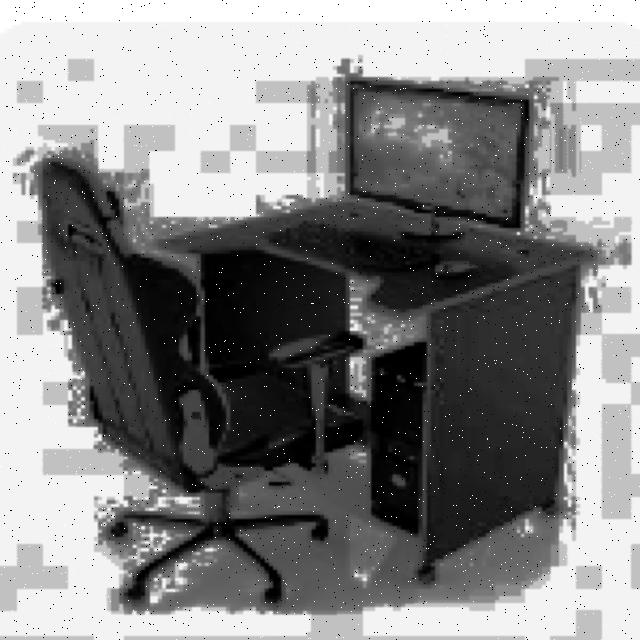book: (38, 154, 363, 607)
table: (154, 195, 593, 581)
